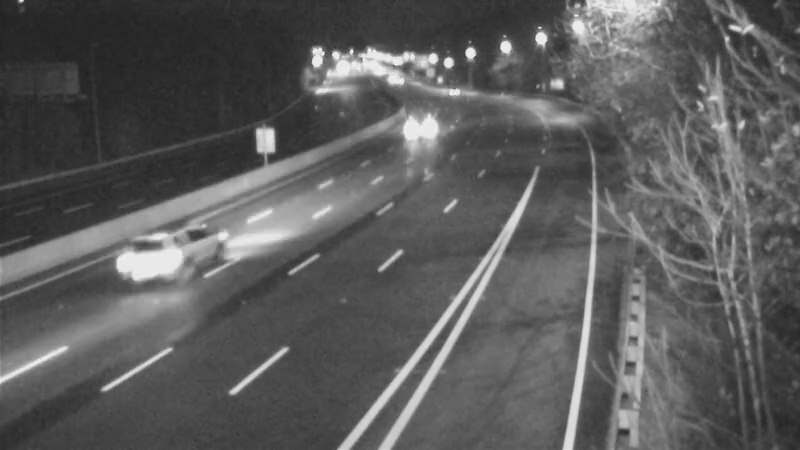vehicle: (107, 223, 187, 303), (427, 66, 477, 116), (397, 102, 447, 152)
